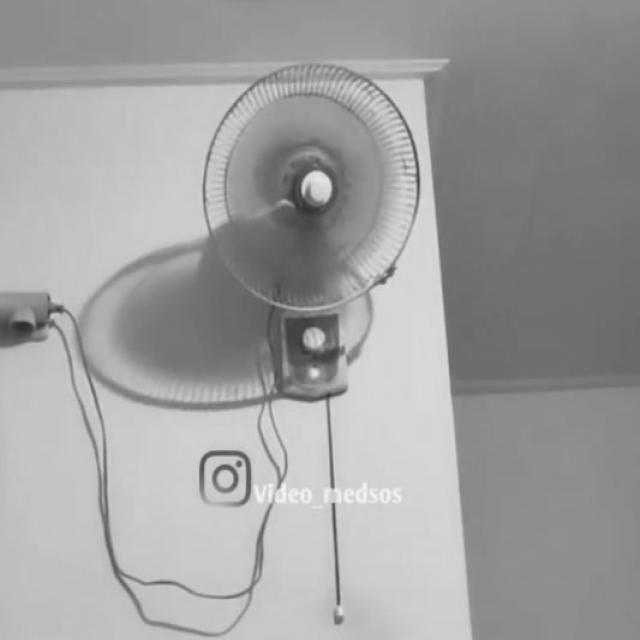fan: (196, 55, 422, 322)
